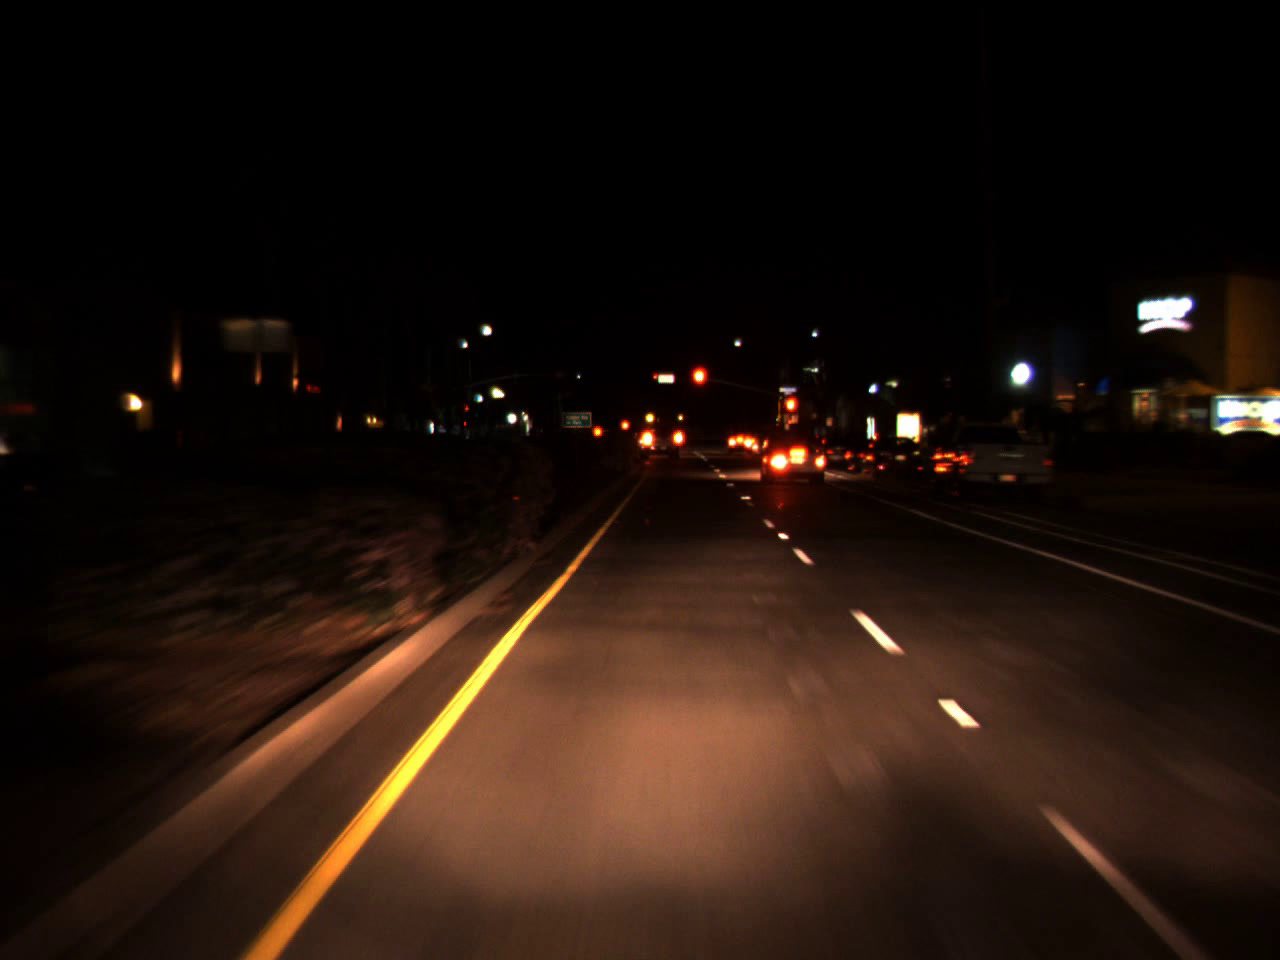stop: (689, 364, 708, 407), (783, 394, 799, 431), (653, 373, 659, 383)
